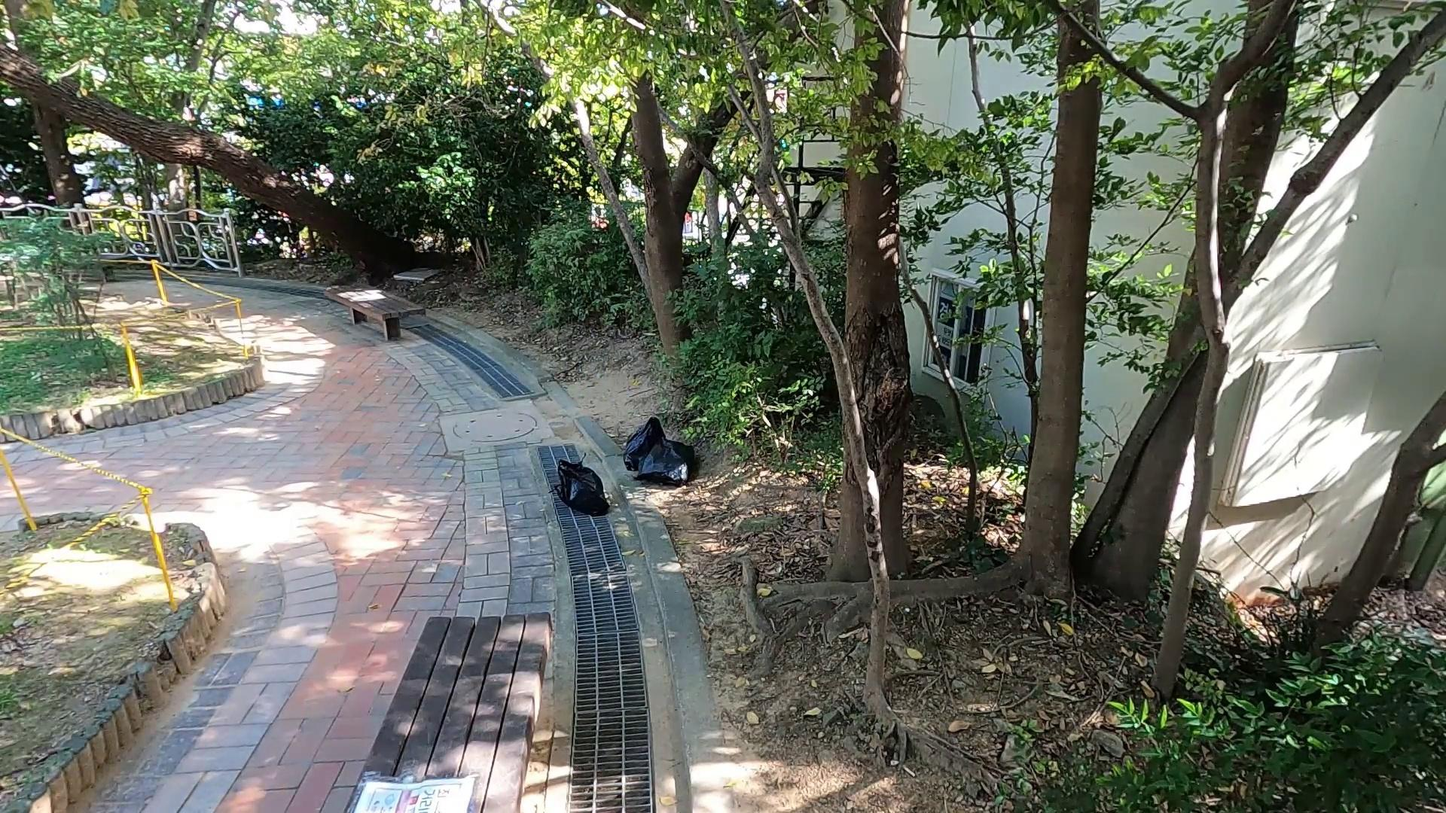trash: (554, 453, 611, 517), (637, 434, 696, 486), (624, 415, 670, 473)
